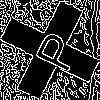P: (25, 25, 81, 75)
